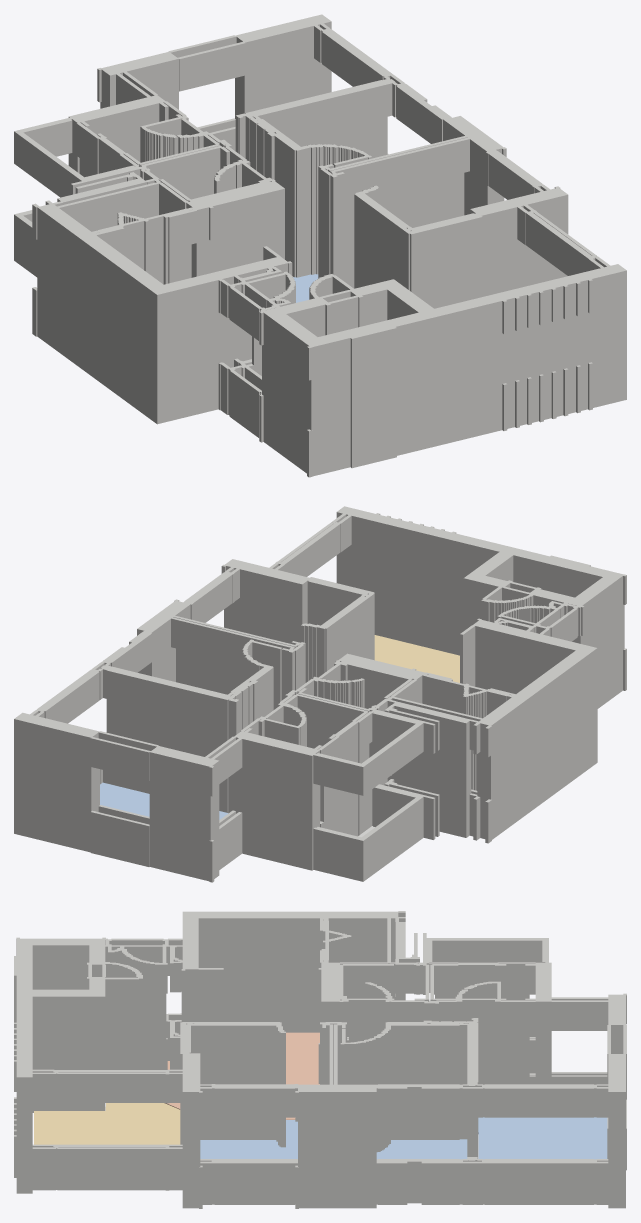
3 views of the same model, one above another, from view 1: azimuth 30°, elevation 25°; view 2: azimuth 150°, elevation 25°; view 3: azimuth 270°, elevation 25° (orthographic). The views are drawn at different scales.
Parts seen in each view (by area): view 1: walls; view 2: walls, room:living:8, room:bedroom:0; view 3: walls, room:living:8, room:bedroom:0, room:bedroom:7, room:kitchen:6, room:bedroom:3.
Part boxes in pixels (bbox=[...]): walls: bbox=[14, 14, 626, 477]; walls: bbox=[14, 506, 626, 882]; room:living:8: bbox=[374, 635, 459, 682]; room:bedroom:0: bbox=[100, 782, 228, 819]; walls: bbox=[14, 911, 626, 1208]; room:living:8: bbox=[34, 1103, 180, 1144]; room:bedroom:0: bbox=[478, 1117, 607, 1159]; room:bedroom:7: bbox=[200, 1120, 297, 1158]; room:kitchen:6: bbox=[164, 1032, 319, 1119]; room:bedroom:3: bbox=[376, 1139, 467, 1159].
Bounding box in the file's own units: 9.36 × 2.8 × 13.37.
